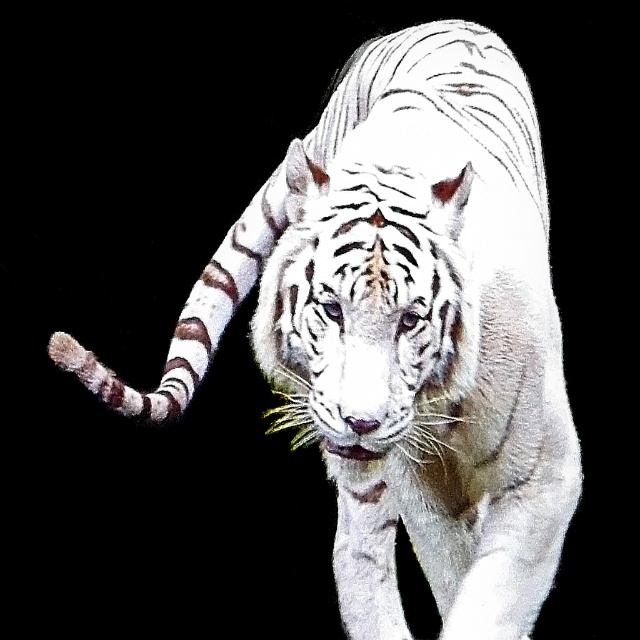Tiger: (48, 17, 583, 638)
